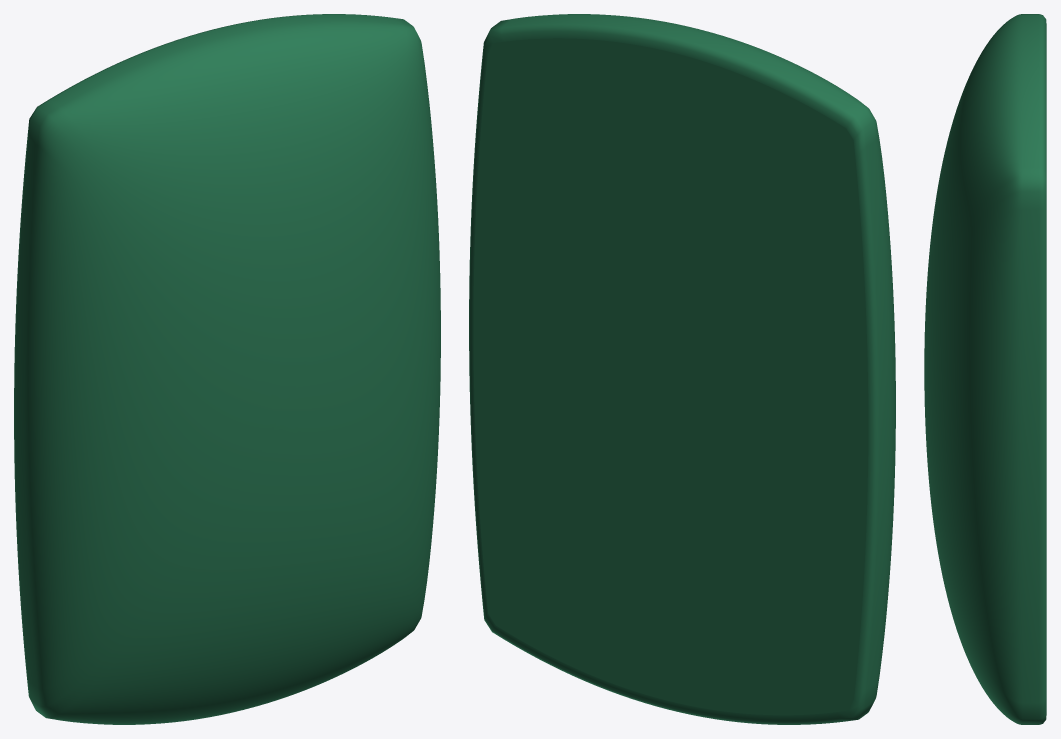
The model's file is barrel.glb.
The picture shows the model from 3 angles, left to right: view 1: azimuth 30°, elevation 25°; view 2: azimuth 150°, elevation 25°; view 3: azimuth 270°, elevation 25°; orthographic projection. The views are drawn at different scales.
Visible parts, largest first — view 1: Barrel Cabochon 22x14x4mm; view 2: Barrel Cabochon 22x14x4mm; view 3: Barrel Cabochon 22x14x4mm.
Boxes of the visible parts, x1,y1,x2,y2 form: Barrel Cabochon 22x14x4mm: [14, 14, 440, 724]; Barrel Cabochon 22x14x4mm: [469, 14, 895, 724]; Barrel Cabochon 22x14x4mm: [924, 14, 1046, 724].
Bounding box in the file's own units: 0.014 × 0.022 × 0.00398.
